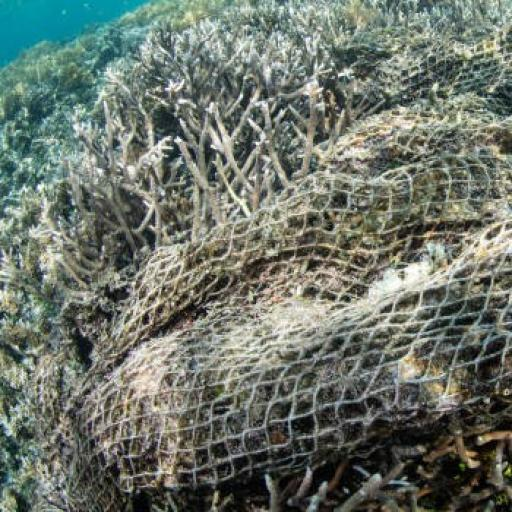net: (38, 31, 512, 499)
